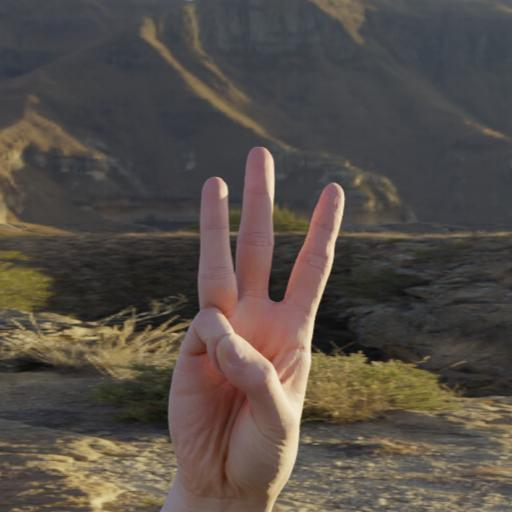W: (148, 136, 367, 512)
